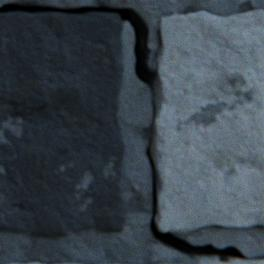brick: (0, 11, 124, 235), (151, 9, 263, 231), (202, 259, 263, 263), (9, 261, 42, 263), (55, 262, 79, 263)
crack: (0, 1, 263, 263)
